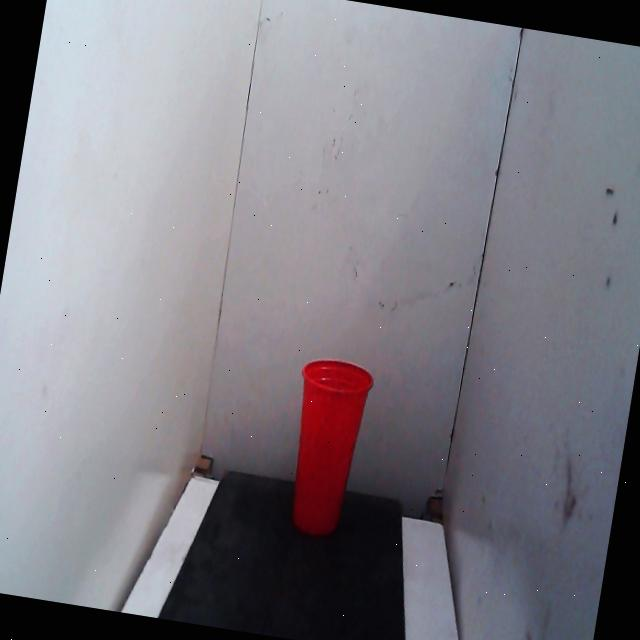plastico: (262, 318, 394, 580)
